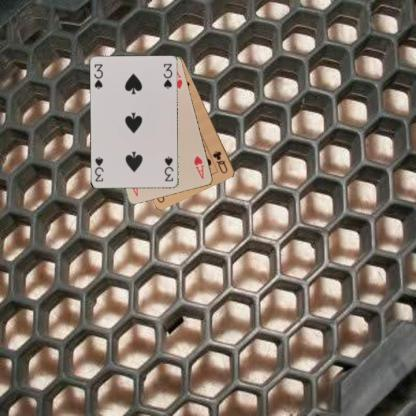3s: (162, 154, 175, 183), (92, 62, 104, 91)
Ah: (191, 153, 206, 180)
Qc: (210, 149, 229, 175)
